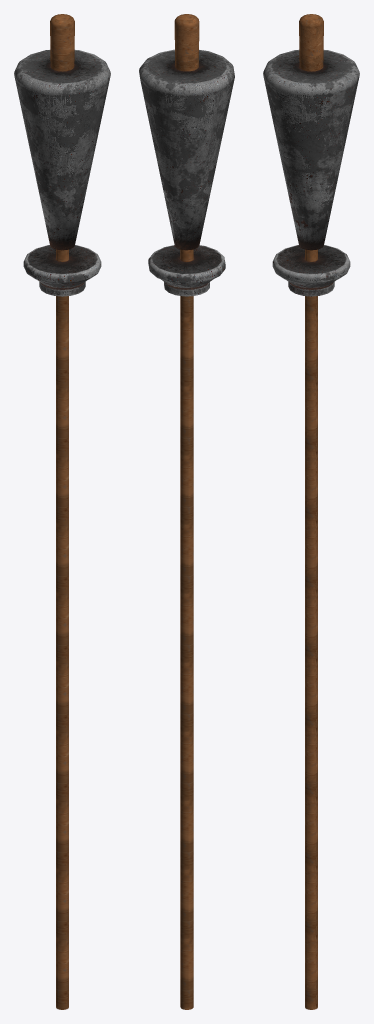
File: Asen 3.fbx
3 renders of one model, left to right at view 1: azimuth 90°, elevation 25°; view 2: azimuth 150°, elevation 25°; view 3: azimuth 270°, elevation 25°, orthographic.
Visible parts, largest first — view 1: Cylinder.006; view 2: Cylinder.006; view 3: Cylinder.006.
Part boxes in pixels (box(x1,y1,x2,y2)): Cylinder.006: box(14, 14, 110, 1009); Cylinder.006: box(139, 14, 234, 1009); Cylinder.006: box(263, 14, 359, 1009).
Bounding box in the file's own units: 73.73 × 832 × 73.73.
Materials: 1 (1 with a texture image).
